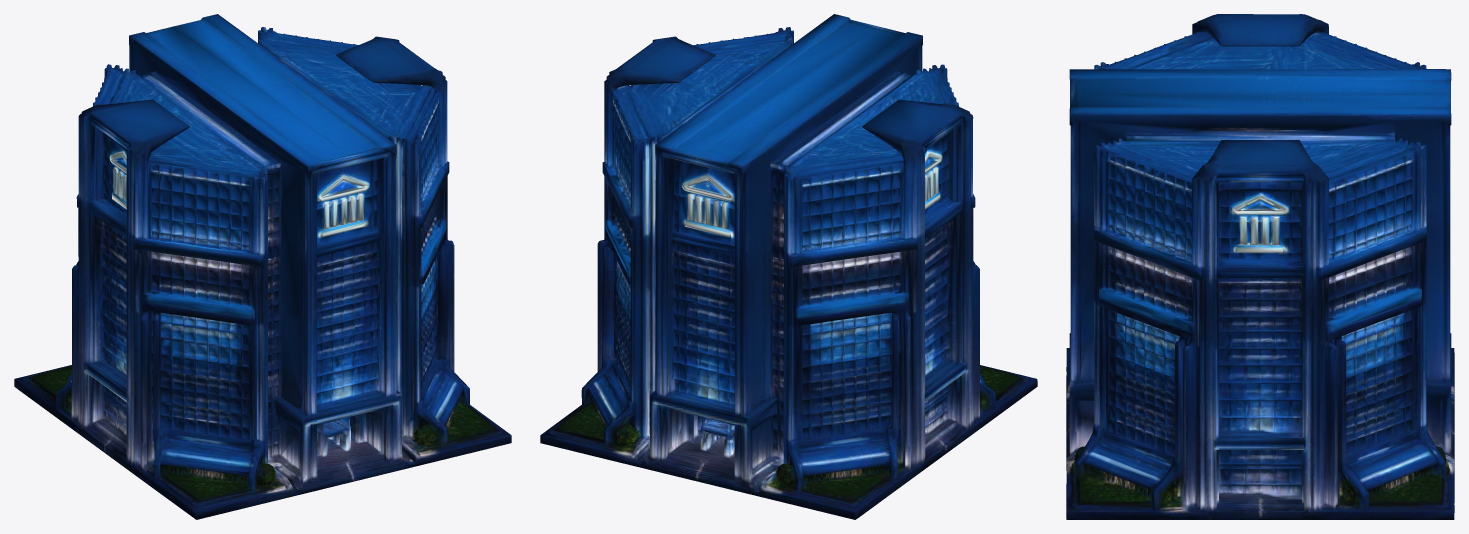
The model's file is finance.min.glb.
3 views of the same model, side by side, from view 1: azimuth 30°, elevation 25°; view 2: azimuth 150°, elevation 25°; view 3: azimuth 270°, elevation 25° (orthographic). The views are drawn at different scales.
Parts seen in each view (by area): view 1: node_0; view 2: node_0; view 3: node_0.
Boxes of the visible parts, <box> form: node_0: <box>14,14,511,519</box>; node_0: <box>540,14,1037,519</box>; node_0: <box>1066,14,1454,519</box>.
Size of the model in its own units: 0.6972 by 0.6858 by 0.6973.
Materials: 1 (1 with a texture image).
